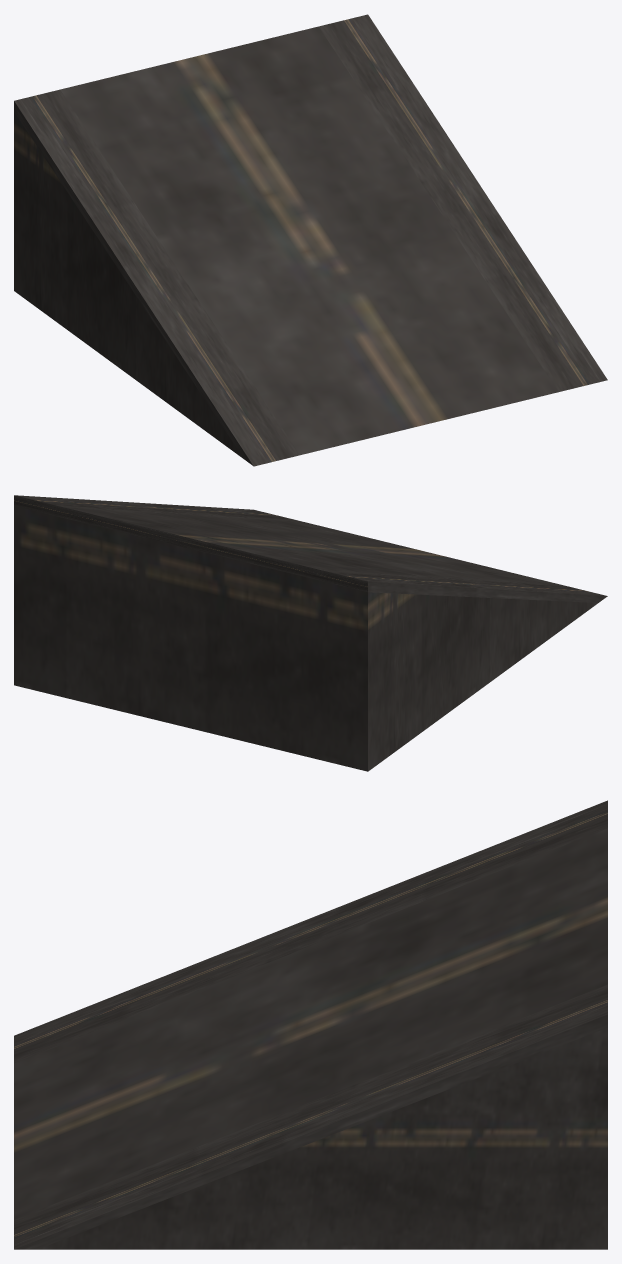
Rendered from Classic64_CarRamp01_Model.fbx.
3 views of the same model, one above another, from view 1: azimuth 30°, elevation 25°; view 2: azimuth 150°, elevation 25°; view 3: azimuth 270°, elevation 25° (orthographic). The views are drawn at different scales.
Visible parts, largest first — view 1: Classic64_CarRamp01_Part000; view 2: Classic64_CarRamp01_Part000; view 3: Classic64_CarRamp01_Part000.
Part boxes in pixels (x1,y1,x2,y2): Classic64_CarRamp01_Part000: [14, 14, 607, 466]; Classic64_CarRamp01_Part000: [14, 495, 607, 771]; Classic64_CarRamp01_Part000: [14, 800, 607, 1249].
Size of the model in its own units: 3.9 by 2 by 4.57.
